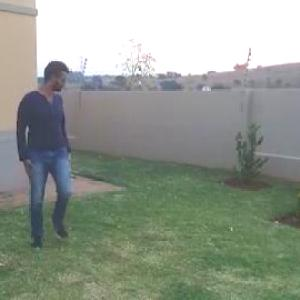follow: (12, 55, 78, 249)
